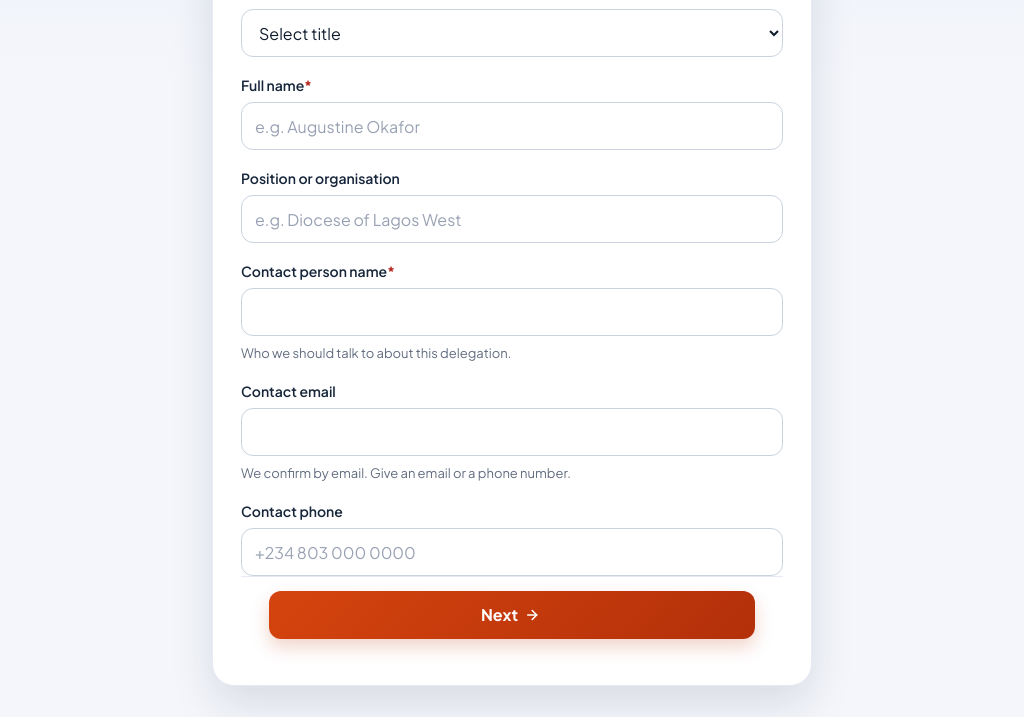
Test: RegistrationScreen › marks every missing field on a step before moving on
This screenshot has width=1024, height=717.
(page scrolled)
Click the button "Next" at point(512, 615), box [269,591,755,639]
(page scrolled)
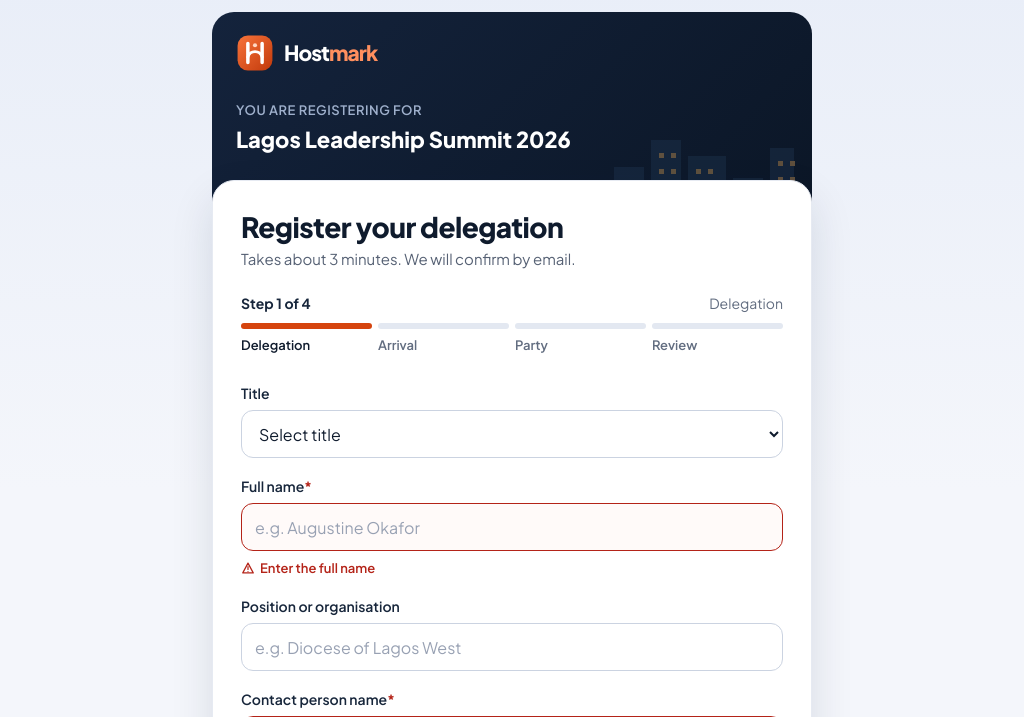
Expected: the text "Step 1 of 4" is shown, [241,293,311,313]
Now the text "Enter the full name" is shown, box [241,560,375,576]
